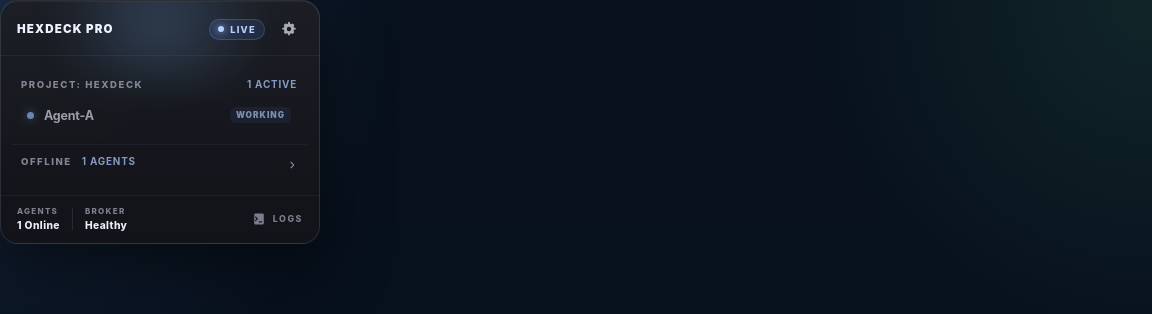
Test: PanelRoute › moves registration-only participants without a live transport or terminal locator into offline
Check: the text "Agent-A" is shown, box 44,108 -> 94,122
Check: the text "Agent-B" is not shown
Click the button with aria-label "Show offline agents": (46, 161) 17,155 -> 301,175
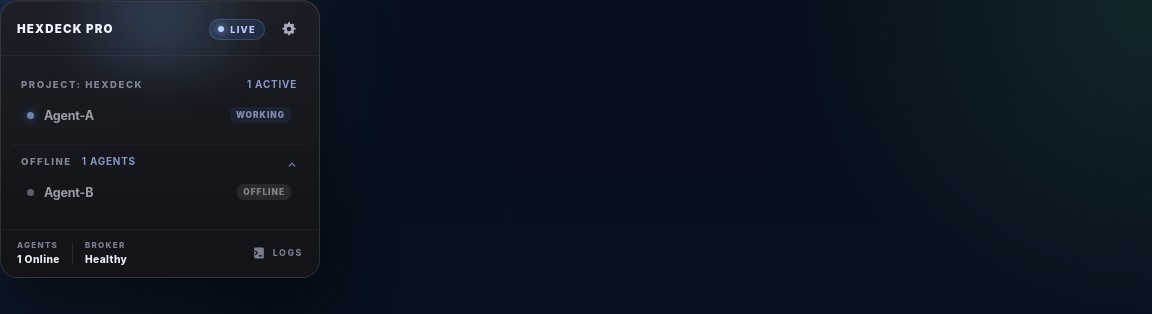
Check: the text "Agent-B" is shown, box 44,184 -> 93,200
Check: the text "offline" is shown, box 237,184 -> 291,200
